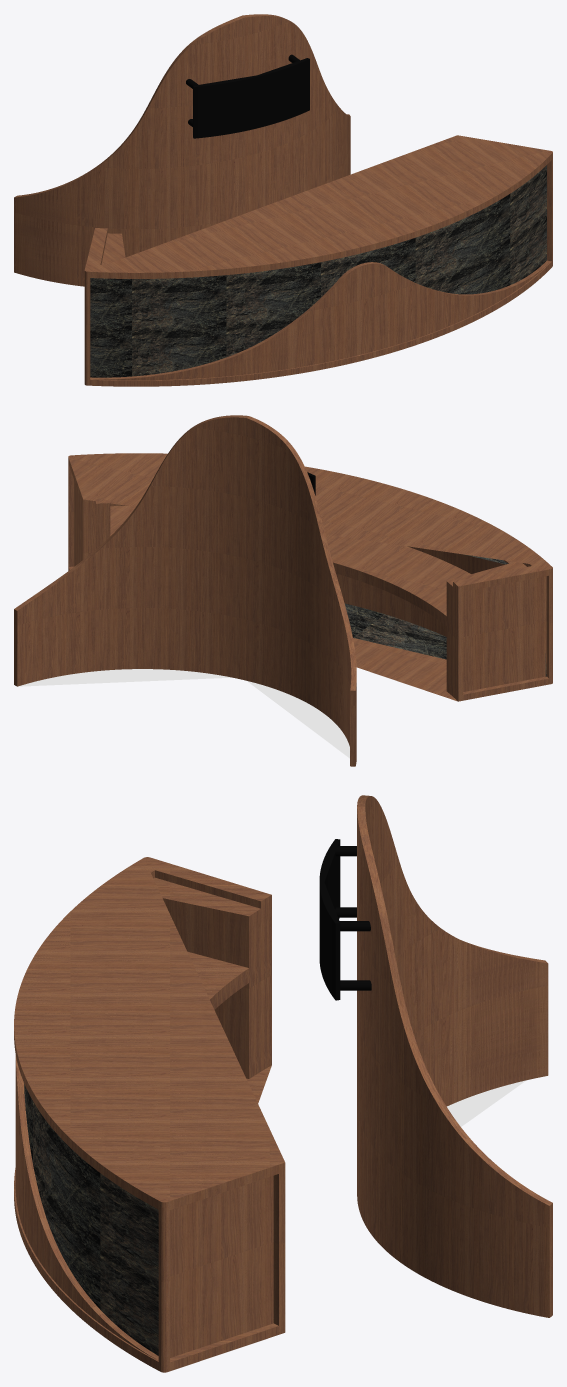
The model's file is front y back desk.fbx.
The picture shows the model from 3 angles, top to bottom: view 1: azimuth 30°, elevation 25°; view 2: azimuth 150°, elevation 25°; view 3: azimuth 270°, elevation 25°; orthographic projection. The views are drawn at different scales.
Parts seen in each view (by area): view 1: front_desks_4_1, backdesk1, Group1, Group2; view 2: backdesk1, front_desks_4_1, Group1; view 3: front_desks_4_1, backdesk1, Group1, Group2.
Part boxes in pixels (x1=…): front_desks_4_1: x1=84, y1=135, x2=552, y2=386; backdesk1: x1=14, y1=14, x2=350, y2=286; Group1: x1=90, y1=165, x2=546, y2=377; Group2: x1=186, y1=54, x2=309, y2=138; backdesk1: x1=14, y1=415, x2=356, y2=766; front_desks_4_1: x1=68, y1=453, x2=552, y2=701; Group1: x1=344, y1=554, x2=546, y2=676; front_desks_4_1: x1=14, y1=857, x2=285, y2=1372; backdesk1: x1=357, y1=795, x2=552, y2=1317; Group1: x1=24, y1=1084, x2=158, y2=1355; Group2: x1=319, y1=839, x2=371, y2=1000.
Size of the model in its own units: 5 by 2.63 by 3.3.
